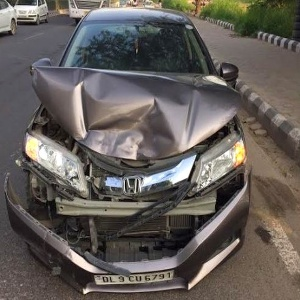bonnet: (29, 61, 239, 161)
bumper: (2, 182, 255, 292)
